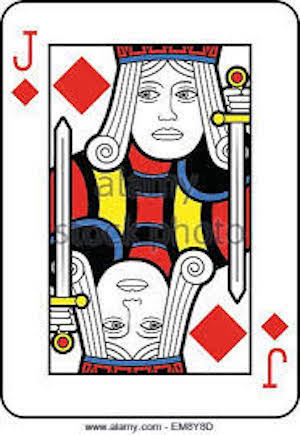JackOfDiamonds: (3, 3, 300, 419)
